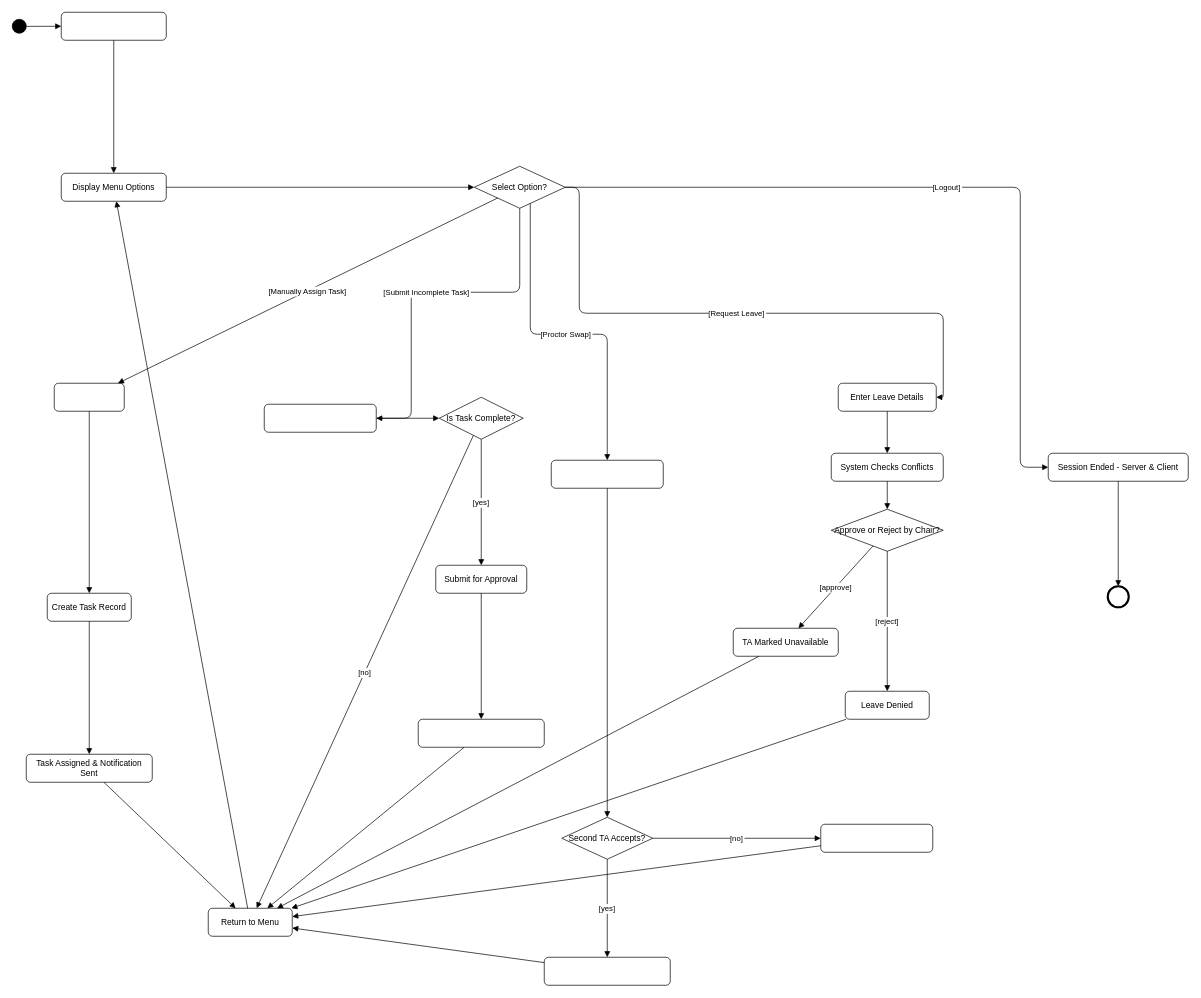
The diagram is 1201 pixels wide and 998 high, and some of its shapes have lost their labels. Here are the shapes that lost their labels. From the top down, the box of each, then its label:
(61, 12, 166, 40): User on Profile Page
(54, 383, 124, 411): Select TAs
(264, 404, 376, 432): TA Edits or Completes Task
(551, 460, 663, 488): TA Chooses Another TA
(418, 719, 544, 747): Instructor Approves or Rejects
(820, 824, 933, 852): Swap Request Rejected
(544, 957, 670, 985): Update Workloads & Notify
